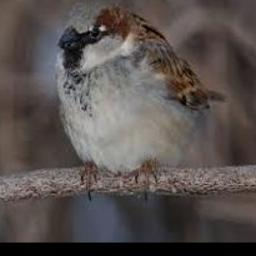Sparrow: (56, 0, 230, 200)
